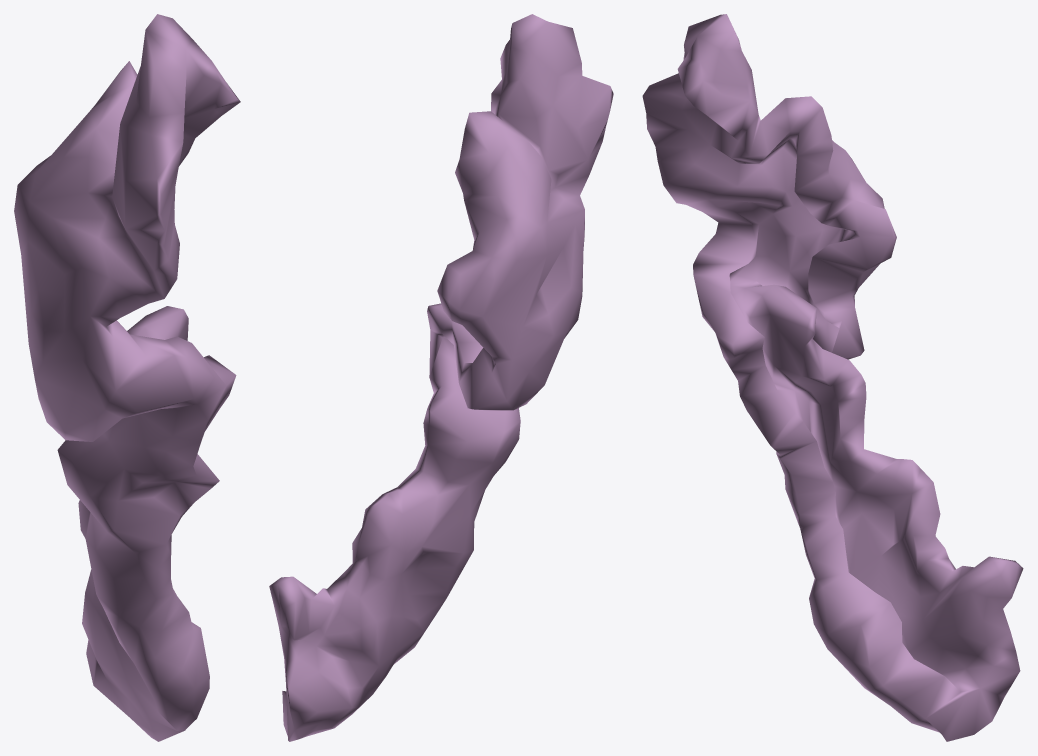
The picture shows the model from 3 angles, left to right: view 1: azimuth 30°, elevation 25°; view 2: azimuth 150°, elevation 25°; view 3: azimuth 270°, elevation 25°; orthographic projection. The views are drawn at different scales.
Visible parts, largest first — view 1: 右侧颞上回外侧部; view 2: 右侧颞上回外侧部; view 3: 右侧颞上回外侧部.
Part boxes in pixels (left/top/right/bottom): 右侧颞上回外侧部: left=14, top=14, right=240, bottom=741; 右侧颞上回外侧部: left=269, top=14, right=613, bottom=741; 右侧颞上回外侧部: left=642, top=14, right=1023, bottom=741.
Bounding box in the file's own units: 0.0374 × 0.1213 × 0.0631.
